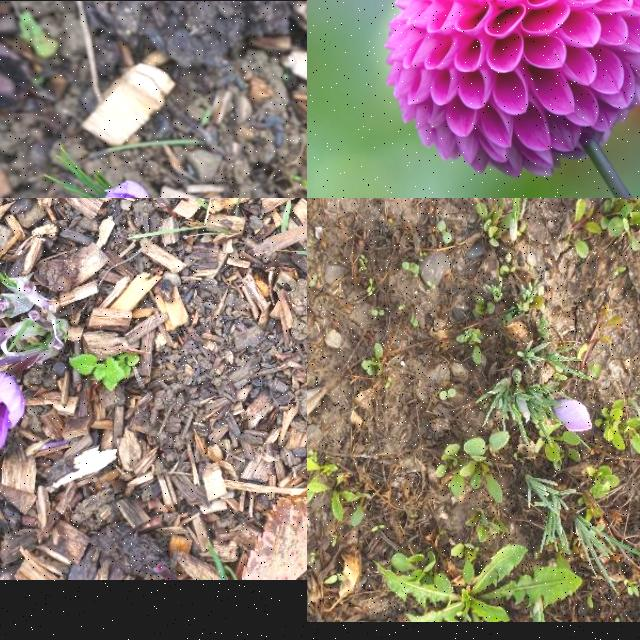flower: (0, 374, 26, 468), (554, 400, 592, 432), (97, 181, 157, 198)
